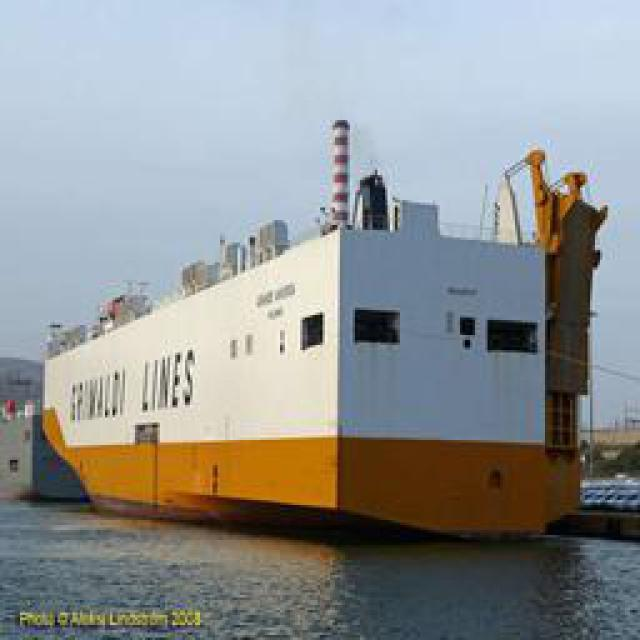Ship: (31, 117, 611, 542)
